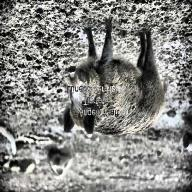boar: (49, 26, 188, 149)
